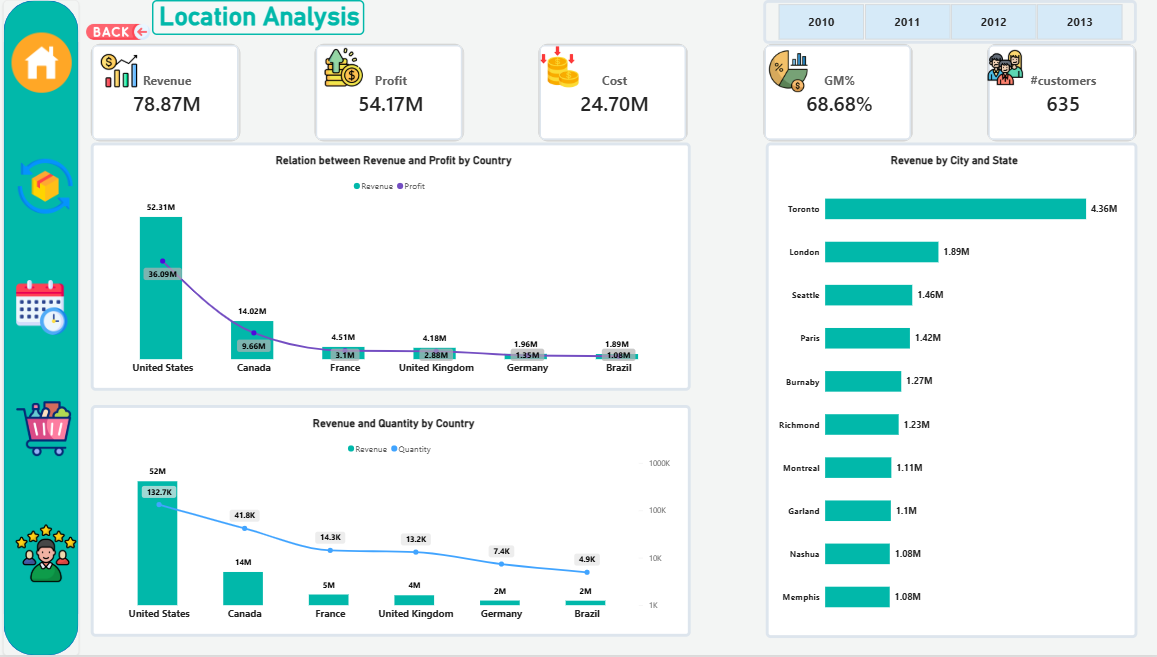

The dashboard page shown, as its layout file describes it:
{"tool":"powerbi","page":{"name":"Location Analysis","canvas":[1920,1080],"ordinal":1},"visuals":[{"type":"cardVisual","fields":{"Data":["Calculations.Revenue"]},"box":[153.8,72.4,246.1,161.1],"z":0},{"type":"cardVisual","fields":{"Data":["Calculations.Cost"]},"box":[892.2,72.4,246.1,161.1],"z":1000},{"type":"cardVisual","fields":{"Data":["Calculations.GM%"]},"box":[1261.3,72.4,246.1,161.1],"z":2000},{"type":"cardVisual","fields":{"Data":["Calculations.Profit"]},"box":[523,72.4,246.1,161.1],"z":3000},{"type":"clusteredBarChart","title":"Revenue by City and State","fields":{"Category":["D_Customers.CityName","D_Customers.StateName"],"Y":["Calculations.Revenue"]},"box":[1265,235.3,611.7,816.2],"z":4000},{"type":"shape","box":[10.9,0,124.9,1080.4],"z":5000},{"type":"cardVisual","fields":{"Data":["Calculations.#customers"]},"box":[1630.5,72.4,246.1,161.1],"z":6000},{"type":"lineClusteredColumnComboChart","title":"Revenue and Quantity by Country","fields":{"Category":["D_Customers.CountryName"],"Y":["Calculations.Revenue"],"Y2":["Calculations.Quantity"]},"box":[153.8,667.8,988.1,381.8],"z":7000},{"type":"textbox","title":"Location Analysis","box":[255.2,0,349.3,57.9],"z":8000},{"type":"lineClusteredColumnComboChart","title":"Relation between Revenue and Profit by Country","fields":{"Category":["D_Customers.CountryName"],"Y":["Calculations.Revenue"],"Y2":["Calculations.Profit"]},"box":[153.8,235.3,988.1,409],"z":9000},{"type":"image","box":[10.9,54.3,126.7,99.5],"z":9001},{"type":"image","box":[19.9,262.4,117.6,90.5],"z":9002},{"type":"image","box":[10.9,461.5,126.7,90.5],"z":9003},{"type":"image","box":[16.3,660.5,121.2,90.5],"z":9004},{"type":"image","box":[25.3,859.6,112.2,101.3],"z":9005},{"type":"image","box":[137.5,0,123.1,105],"z":9006},{"type":"slicer","fields":{"Values":["Calendar.Year"]},"box":[1261.3,0,615.3,72.4],"z":9007},{"type":"image","box":[170.8,80.3,59.7,72],"z":9008},{"type":"image","box":[539.3,56.1,63.3,110.4],"z":9009},{"type":"image","box":[891.3,74.1,70.6,72.4],"z":9010},{"type":"image","box":[1630.2,59.7,59.7,102.9],"z":9012},{"type":"image","box":[1265.9,78.2,74.1,78.2],"z":9013}]}

Visuals, with their boxes in screenshot pixels (x1, y1, x2, y2), scaled from the page's 1920x1080 canvas onto the 1157x657 screenshot:
cardVisual - Calculations.Revenue: (x1=93, y1=44, x2=241, y2=142)
cardVisual - Calculations.Cost: (x1=538, y1=44, x2=686, y2=142)
cardVisual - Calculations.GM%: (x1=760, y1=44, x2=908, y2=142)
cardVisual - Calculations.Profit: (x1=315, y1=44, x2=463, y2=142)
"Revenue by City and State" clusteredBarChart: (x1=762, y1=143, x2=1131, y2=640)
shape: (x1=7, y1=0, x2=82, y2=656)
cardVisual - Calculations.#customers: (x1=983, y1=44, x2=1131, y2=142)
"Revenue and Quantity by Country" lineClusteredColumnComboChart: (x1=93, y1=406, x2=688, y2=639)
"Location Analysis" textbox: (x1=154, y1=0, x2=364, y2=35)
"Relation between Revenue and Profit by Country" lineClusteredColumnComboChart: (x1=93, y1=143, x2=688, y2=392)
image: (x1=7, y1=33, x2=83, y2=94)
image: (x1=12, y1=160, x2=83, y2=215)
image: (x1=7, y1=281, x2=83, y2=336)
image: (x1=10, y1=402, x2=83, y2=457)
image: (x1=15, y1=523, x2=83, y2=585)
image: (x1=83, y1=0, x2=157, y2=64)
slicer - Calendar.Year: (x1=760, y1=0, x2=1131, y2=44)
image: (x1=103, y1=49, x2=139, y2=93)
image: (x1=325, y1=34, x2=363, y2=101)
image: (x1=537, y1=45, x2=580, y2=89)
image: (x1=982, y1=36, x2=1018, y2=99)
image: (x1=763, y1=48, x2=807, y2=95)
